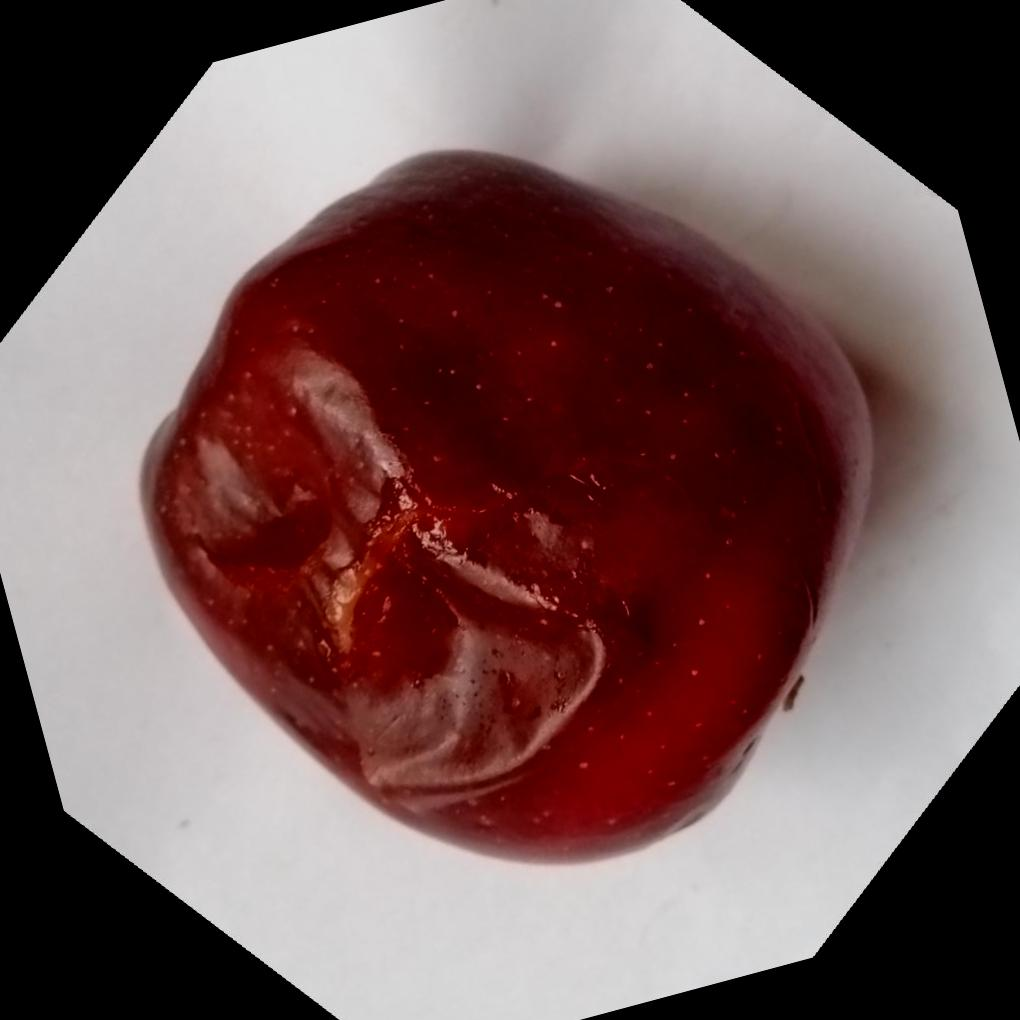FreshOrange: (133, 145, 873, 867)
